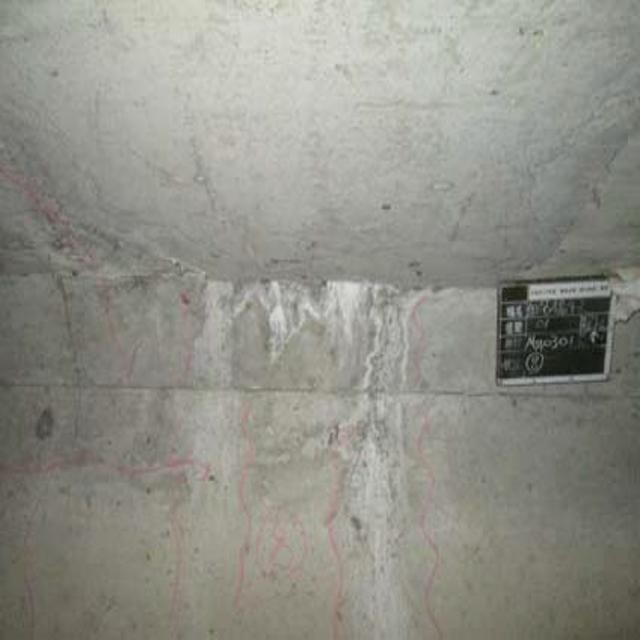freelime: (210, 264, 414, 390)
